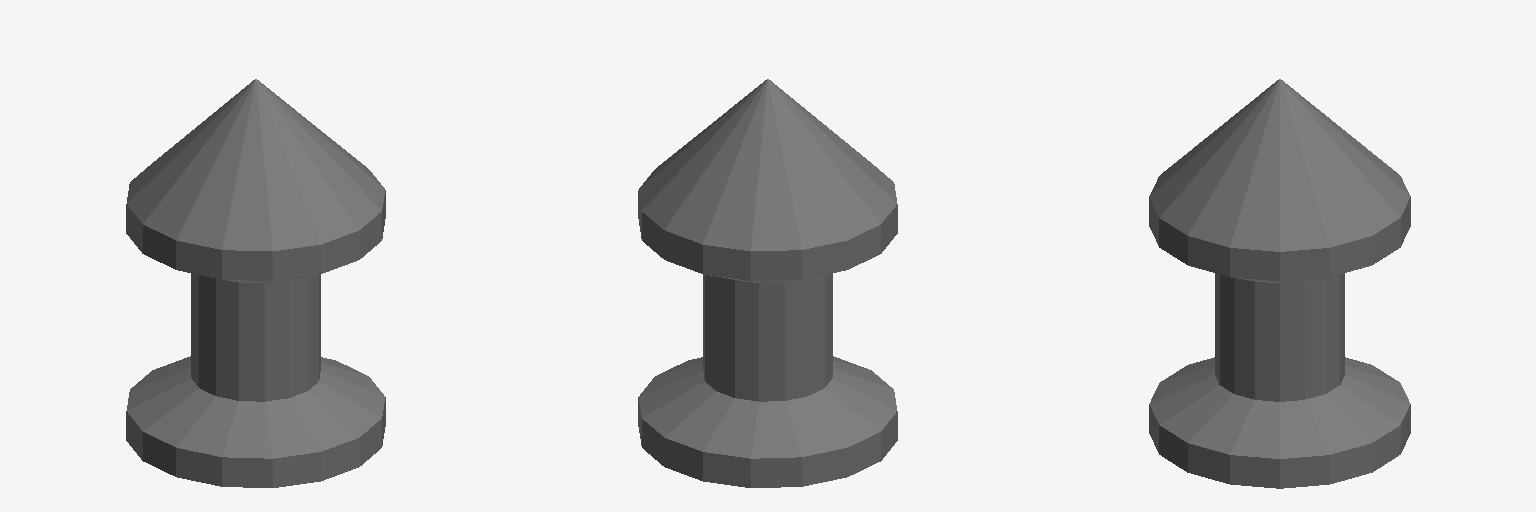
3 renders of one model, left to right at view 1: azimuth 30°, elevation 25°; view 2: azimuth 150°, elevation 25°; view 3: azimuth 270°, elevation 25°, orthographic.
Visible parts, largest first — view 1: bm_hurdleCenter; view 2: bm_hurdleCenter; view 3: bm_hurdleCenter.
Part boxes in pixels (x1,y1,x2,y2): bm_hurdleCenter: (126, 79, 385, 487); bm_hurdleCenter: (638, 79, 897, 487); bm_hurdleCenter: (1149, 79, 1410, 488).
Size of the model in its own units: 0.5 by 0.75 by 0.5.
1 materials, 1 textured.